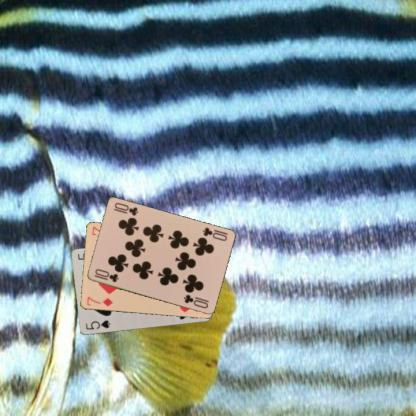10c: (91, 266, 120, 284), (200, 225, 228, 242)
5s: (82, 318, 112, 331)
7d: (84, 294, 114, 308)
